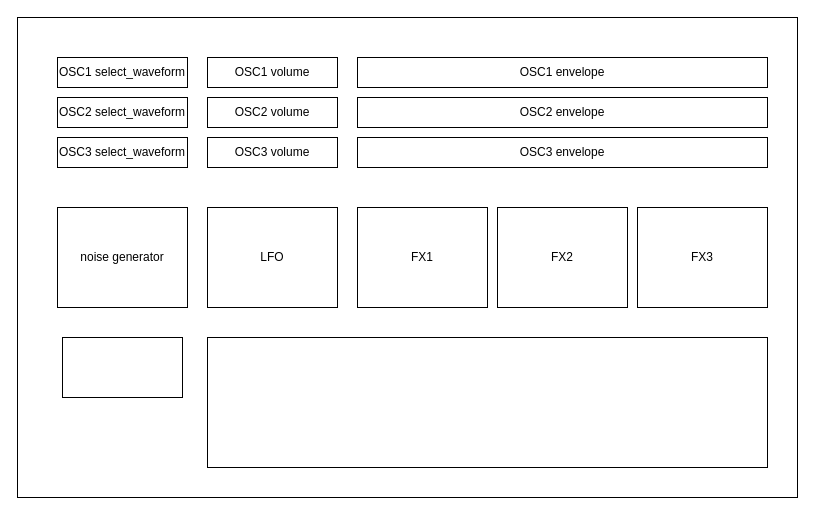
This 815x515 diagram has some shape labels left out. Here are the shapes that lost their labels. From the top down, the centre of each, then its label:
point (122, 367): Transport
point (487, 402): Chord type select/arpeggiator?
